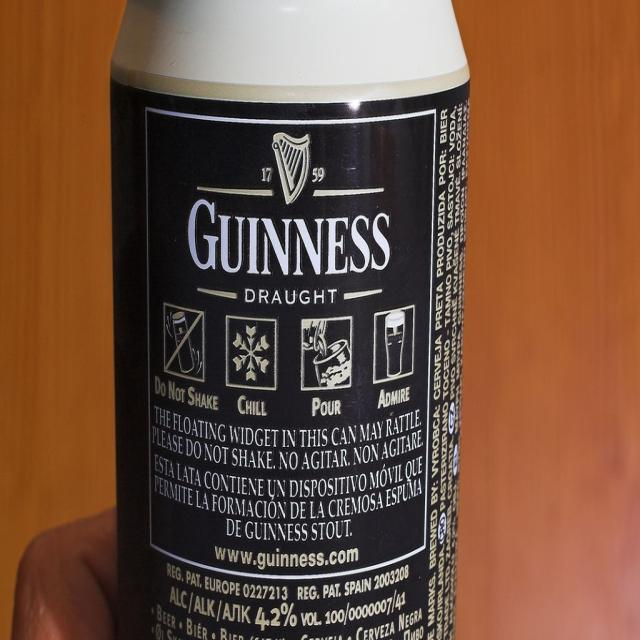guiness: (184, 127, 397, 282)
